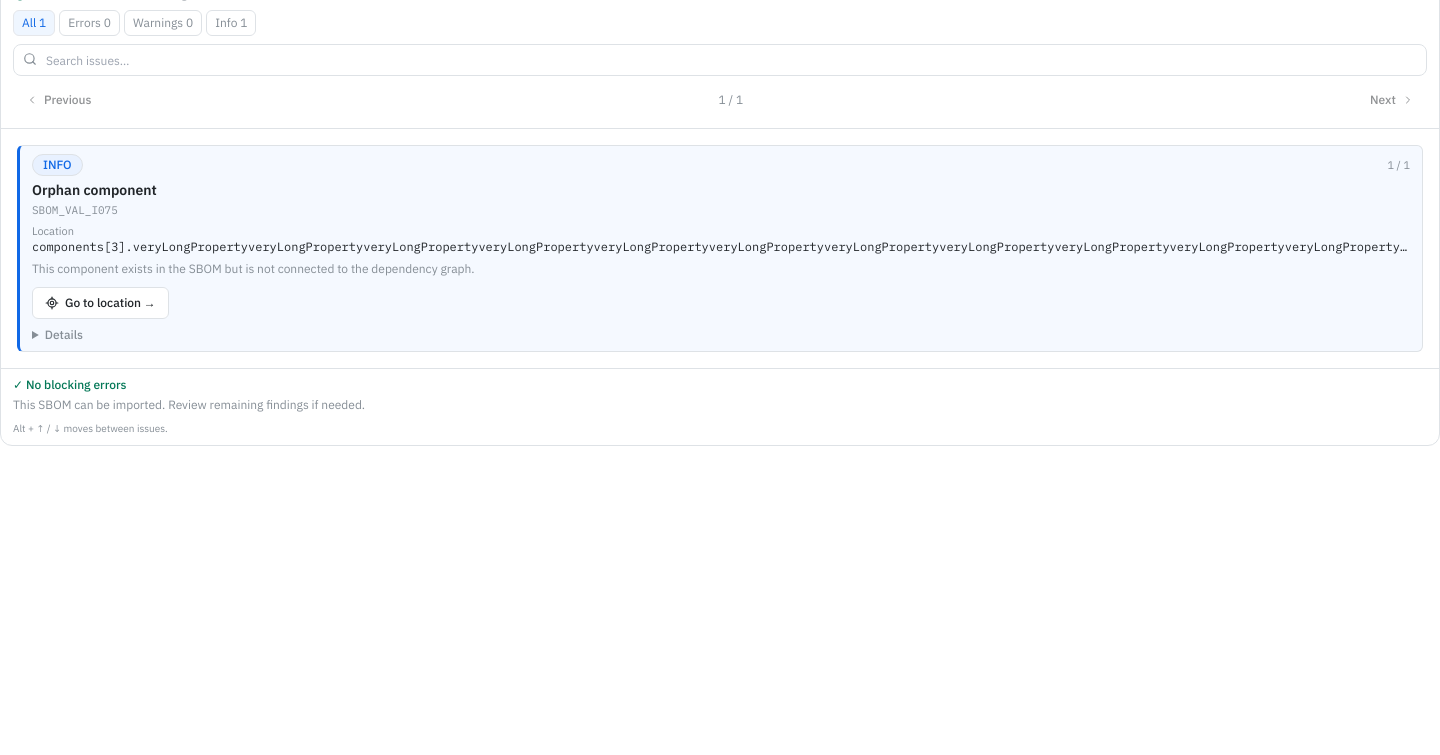
Test case: expands complete finding information without line clamping or identifier overflow
This screenshot has width=1440, height=755.
Click the heading "Details" at (64, 334), box [45, 326, 83, 342]
(page scrolled)
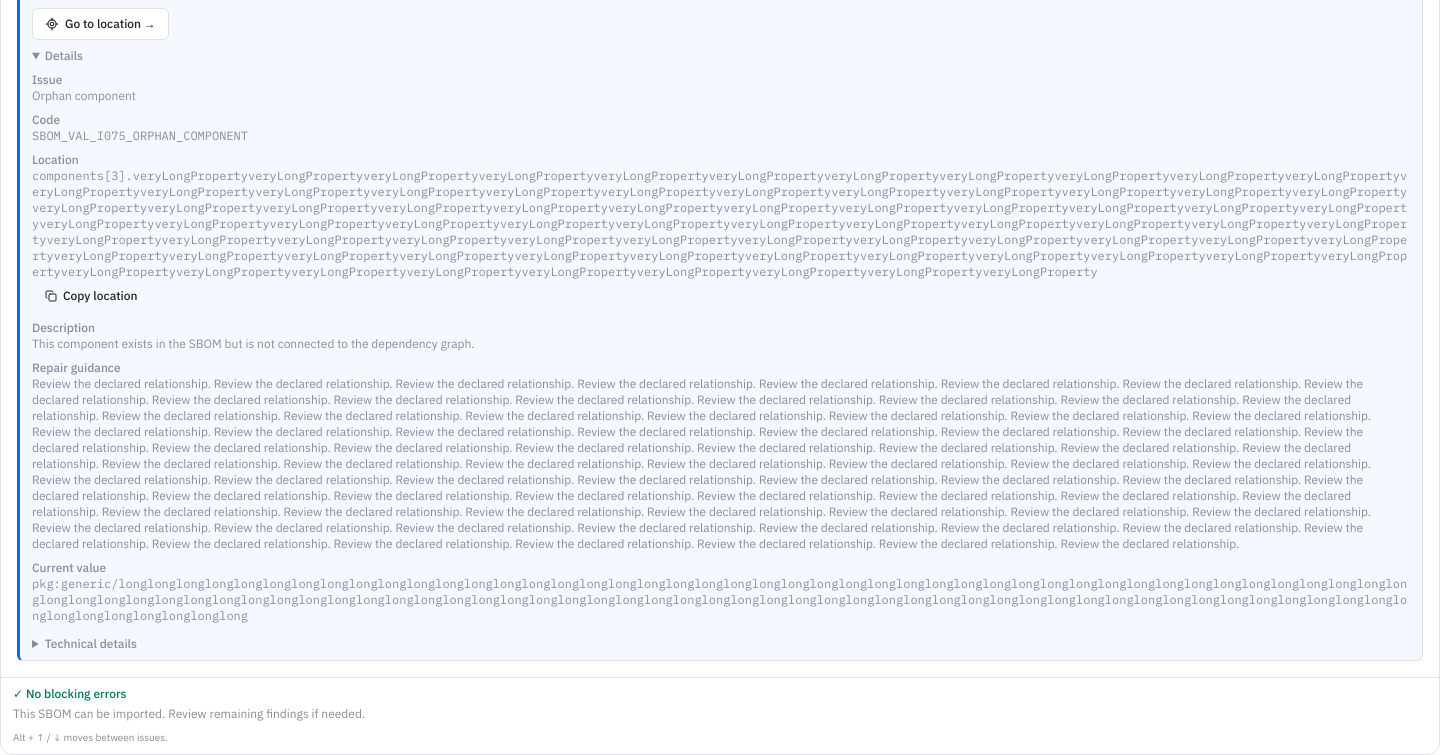
Expected: the text "✓ No blocking errors" is shown, [13, 686, 126, 700]
Expected: the text "Current value" is shown, [32, 560, 106, 574]
